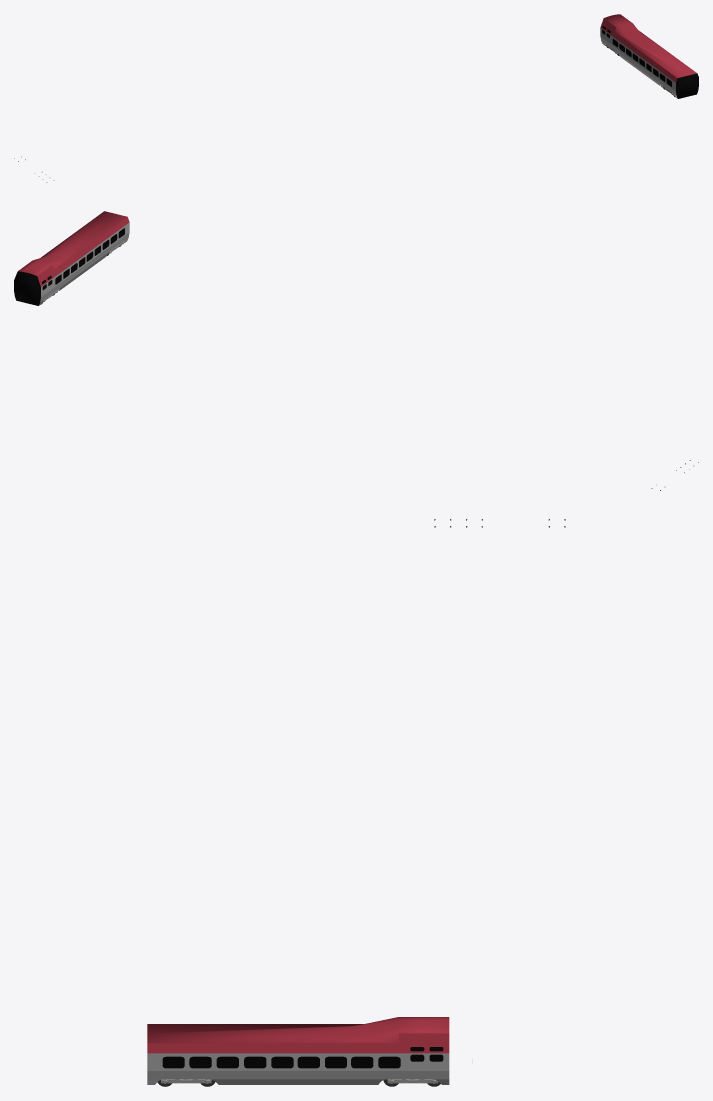
File: thalys_car4.gltf
3 views of the same model, one above another, from view 1: azimuth 30°, elevation 25°; view 2: azimuth 150°, elevation 25°; view 3: azimuth 270°, elevation 25° (orthographic). The views are drawn at different scales.
Parts seen in each view (by area): view 1: Sketchup; view 2: Sketchup; view 3: Sketchup.
Boxes of the visible parts, bbox=[...] form: Sketchup: bbox=[595, 14, 698, 98]; Sketchup: bbox=[14, 211, 129, 307]; Sketchup: bbox=[147, 1017, 472, 1084].
Size of the model in its own units: 89.78 by 4.14 by 28.02.
